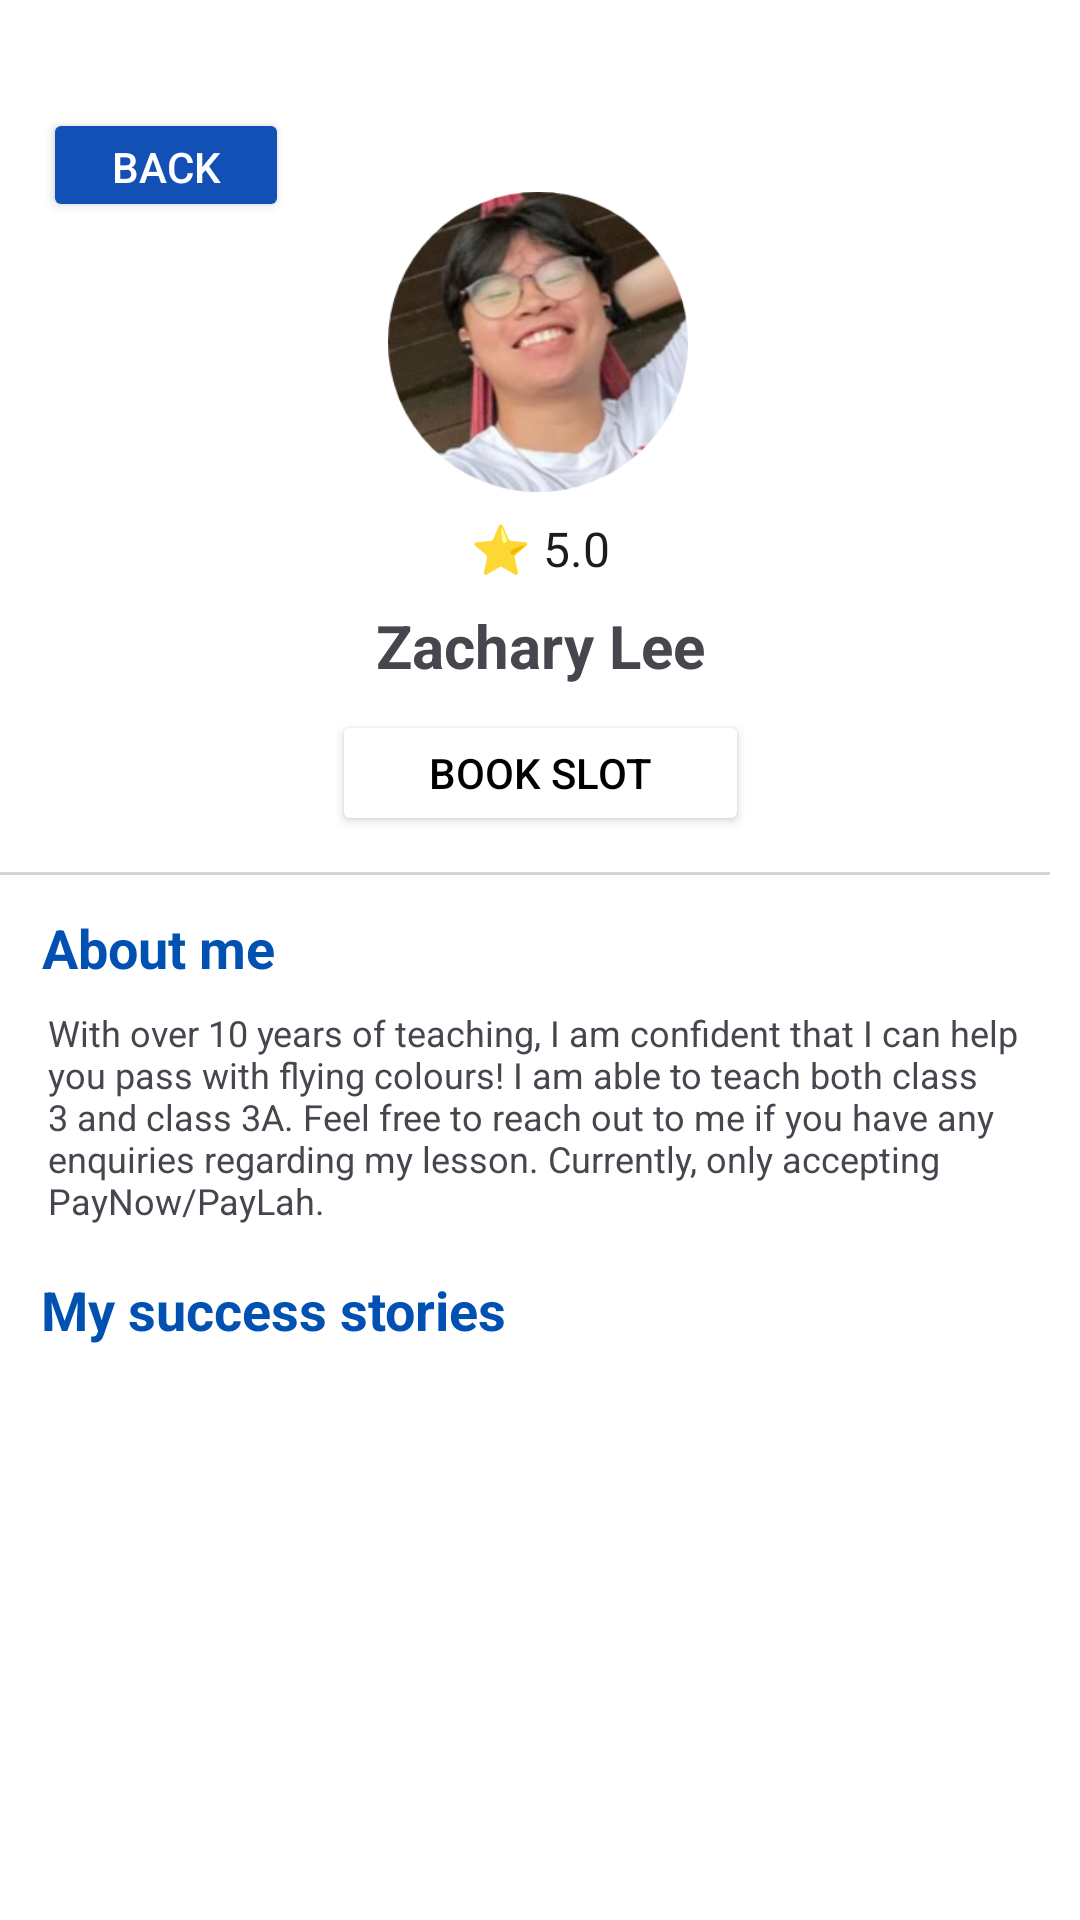

Icon click points for this 1080px x 1920px phone screenshot, format point (x, y):
Instructor Profile Picture: point (538, 342)
